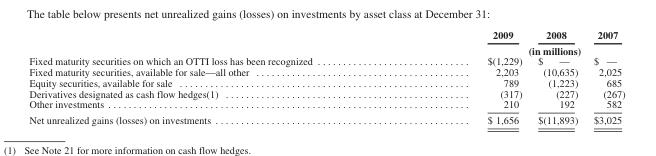table: (28, 28, 624, 125)
table column: (28, 28, 399, 125), (399, 28, 529, 125), (529, 28, 585, 125), (585, 28, 624, 125)
table column header: (28, 28, 624, 55)
table row: (28, 28, 624, 42), (28, 111, 624, 125), (28, 42, 624, 55), (28, 98, 624, 111), (28, 55, 624, 66), (28, 66, 624, 77), (28, 87, 624, 98), (28, 77, 624, 87)
table spanning cell: (399, 42, 624, 55)
